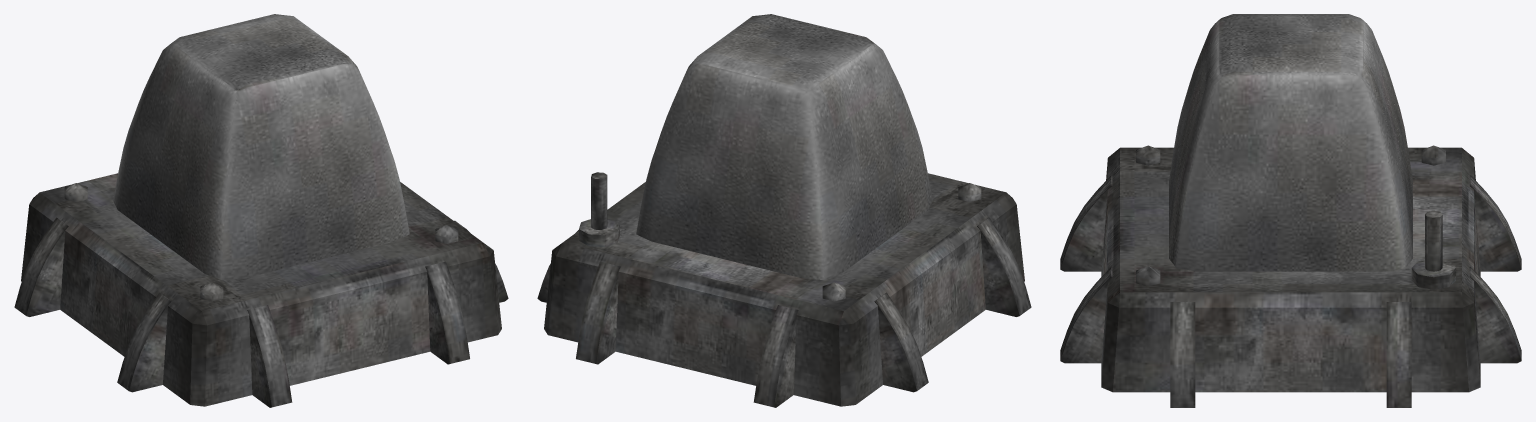
The model's file is small-lamp.glb.
3 views of the same model, side by side, from view 1: azimuth 30°, elevation 25°; view 2: azimuth 150°, elevation 25°; view 3: azimuth 270°, elevation 25° (orthographic). The views are drawn at different scales.
Parts seen in each view (by area): view 1: body; view 2: body; view 3: body.
Part boxes in pixels (x1=…): body: x1=14, y1=14, x2=508, y2=407; body: x1=537, y1=14, x2=1031, y2=407; body: x1=1060, y1=14, x2=1521, y2=407.
Size of the model in its own units: 0.9132 by 0.5925 by 0.9132.
1 material, 1 textured.
